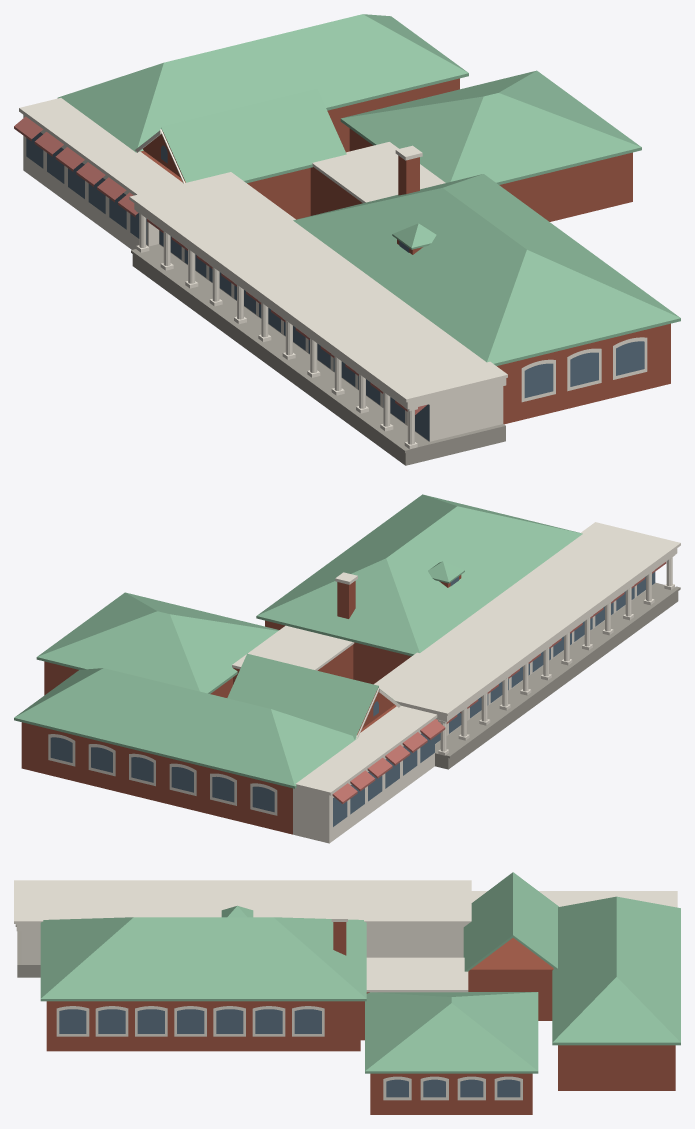
File: nyc-loeb-boathouse.glb
The picture shows the model from 3 angles, top to bottom: view 1: azimuth 30°, elevation 25°; view 2: azimuth 150°, elevation 25°; view 3: azimuth 270°, elevation 25°; orthographic projection. The views are drawn at different scales.
Visible parts, largest first — view 1: Loeb Boathouse; view 2: Loeb Boathouse; view 3: Loeb Boathouse.
Boxes of the visible parts, x1=… form: Loeb Boathouse: x1=14, y1=14, x2=680, y2=465; Loeb Boathouse: x1=14, y1=494, x2=680, y2=843; Loeb Boathouse: x1=14, y1=872, x2=680, y2=1114.
Size of the model in its own units: 39.25 by 10.3 by 61.2.
